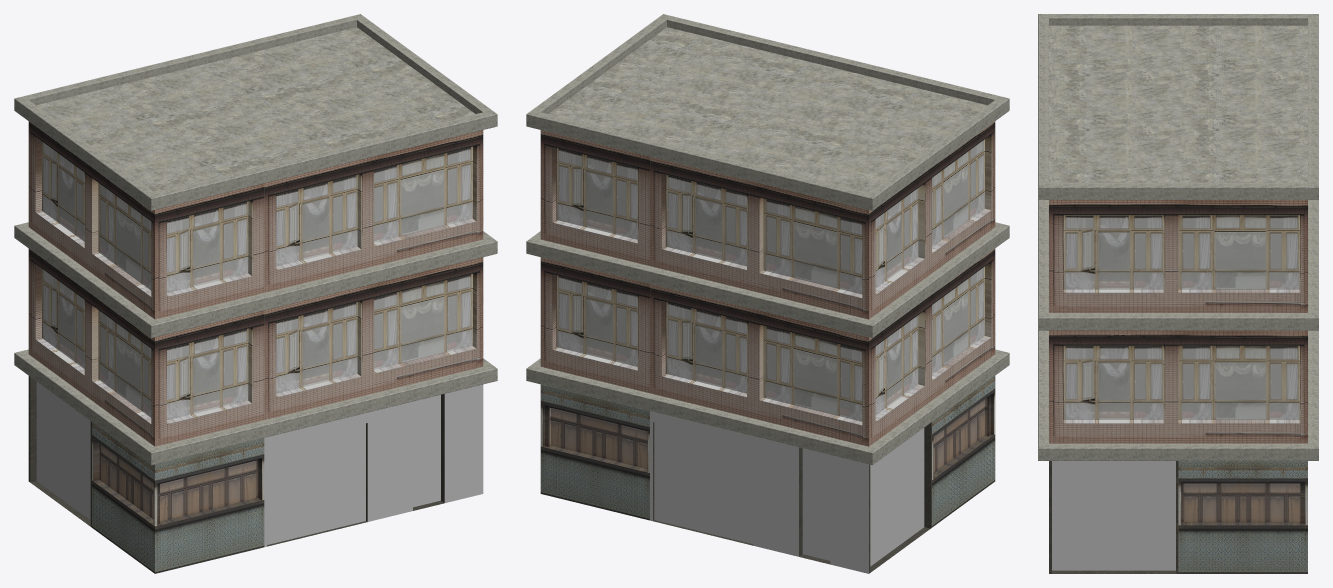
Rendered from CT_door_037.fbx.
3 renders of one model, left to right at view 1: azimuth 30°, elevation 25°; view 2: azimuth 150°, elevation 25°; view 3: azimuth 270°, elevation 25°, orthographic. The views are drawn at different scales.
Visible parts, largest first — view 1: CT_door_037; view 2: CT_door_037; view 3: CT_door_037.
Boxes of the visible parts, <box> form: CT_door_037: <box>14,14,497,573</box>; CT_door_037: <box>526,14,1009,573</box>; CT_door_037: <box>1038,14,1318,573</box>.
Bounding box in the file's own units: 811 × 853 × 555.
